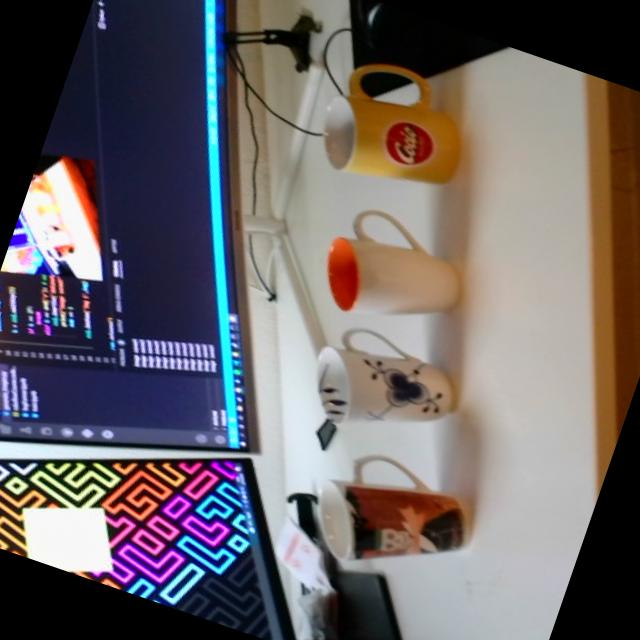Cocio Cup: (308, 48, 482, 208)
Halloween cup: (300, 436, 486, 598)
Hand painted cup: (294, 315, 469, 471)
White Cup: (311, 196, 478, 344)
